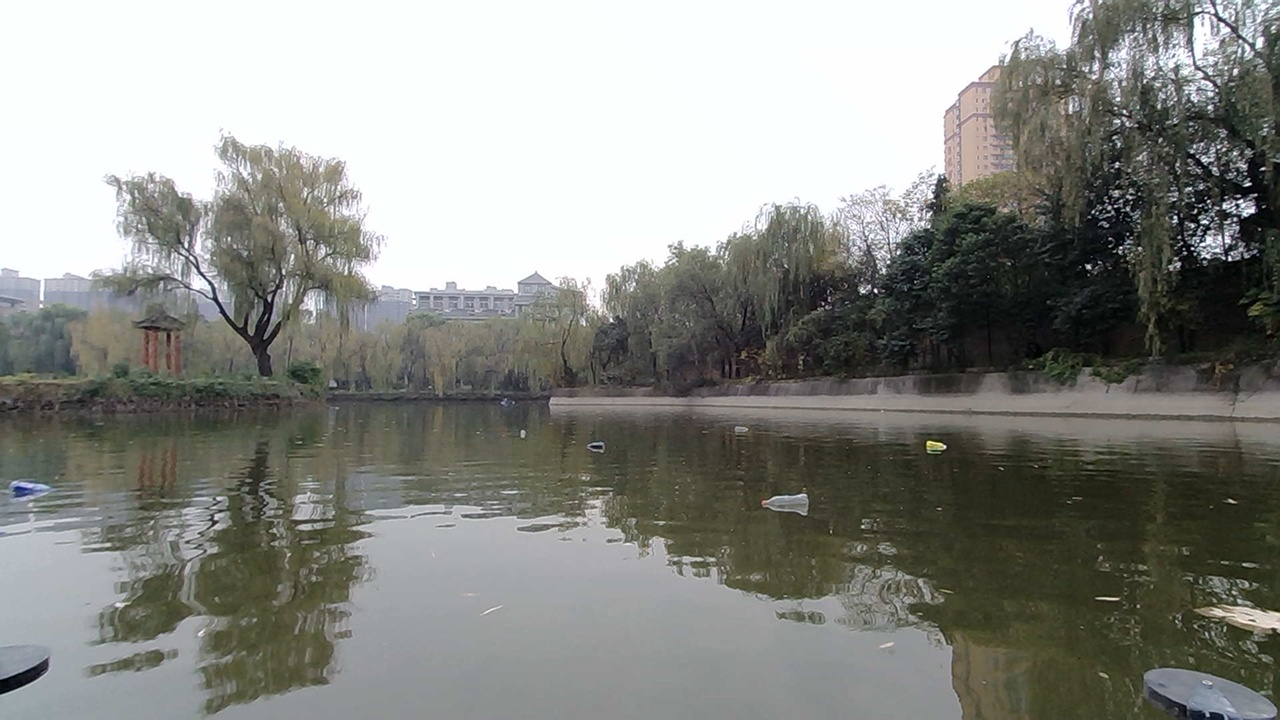bottle: (759, 471, 822, 528), (4, 478, 51, 507), (921, 426, 954, 460), (511, 418, 540, 450), (729, 414, 766, 437), (589, 424, 613, 459)
